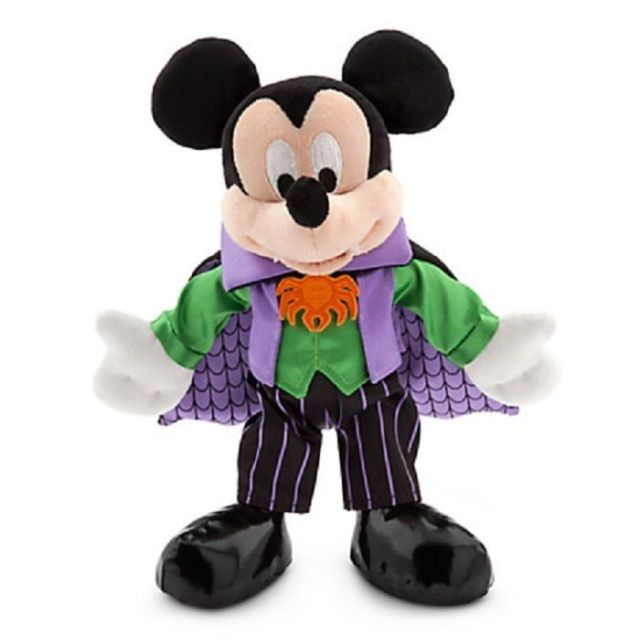Mickey: (148, 23, 461, 283)
